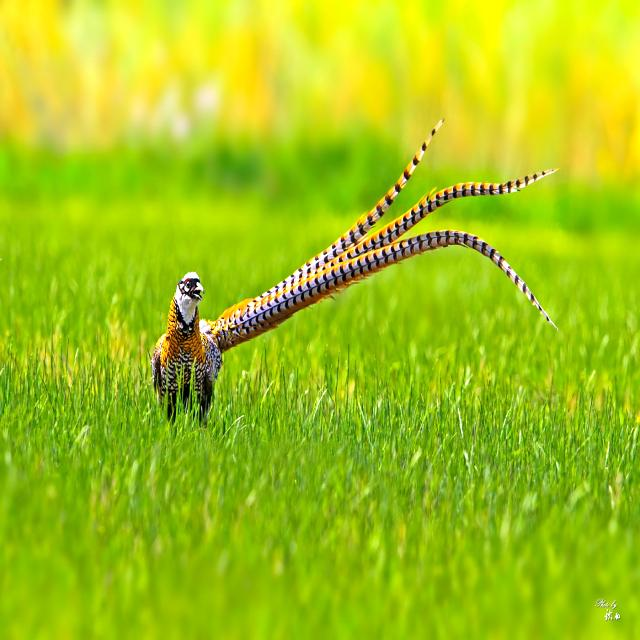Reeves-s Pheasant: (205, 118, 562, 354)
